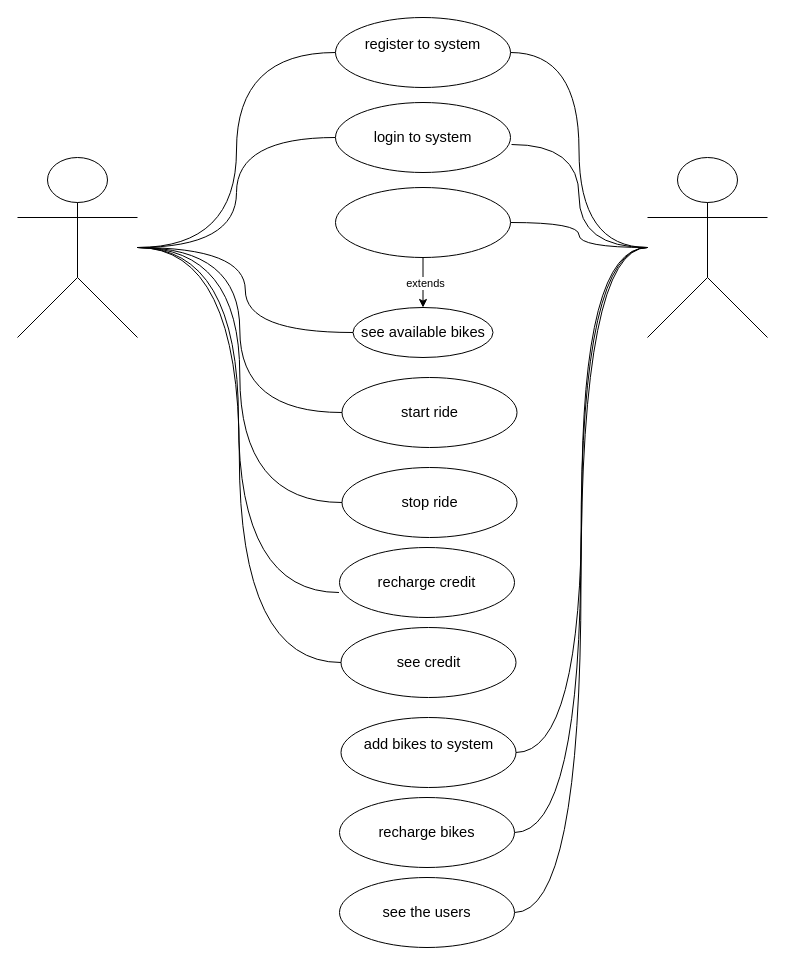
The diagram is 785 pixels wide and 965 high, and some of its shapes have lost their labels. The centre of each missing label's shape, as x and y in pixels:
Admin: the point at 707,247
see all the bikes: the point at 422,222
User: the point at 77,247
